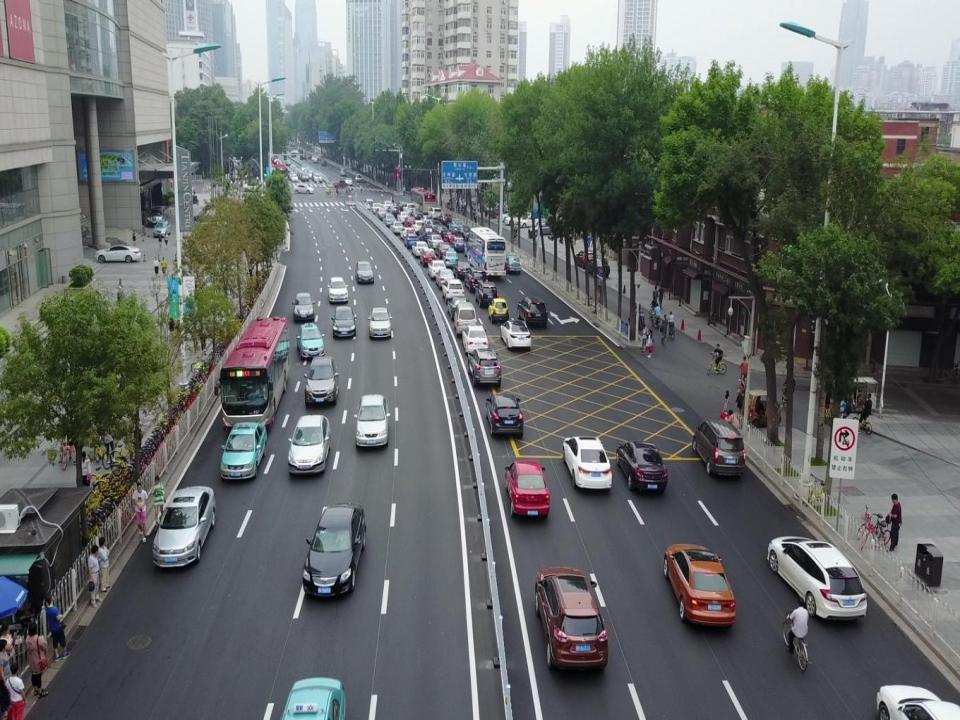bus: (216, 317, 288, 433), (470, 226, 506, 278), (408, 187, 436, 214)
car: (766, 536, 866, 620), (535, 568, 608, 670), (664, 543, 736, 628), (302, 503, 366, 594), (152, 486, 216, 566), (875, 685, 960, 720), (692, 420, 745, 475), (219, 420, 267, 479), (280, 676, 344, 720), (616, 441, 668, 492), (563, 437, 612, 489), (288, 414, 330, 474), (505, 461, 550, 517), (303, 354, 339, 406), (354, 393, 390, 444), (485, 393, 523, 437), (467, 348, 501, 387), (296, 322, 324, 359), (517, 296, 547, 330), (500, 320, 531, 349), (331, 305, 357, 339), (95, 243, 141, 262), (462, 326, 488, 354), (368, 307, 392, 337), (292, 293, 316, 321), (464, 267, 486, 293), (475, 281, 498, 305), (447, 297, 471, 319), (442, 279, 464, 303), (487, 298, 508, 323), (586, 257, 610, 278), (328, 277, 348, 302), (436, 267, 456, 289), (355, 261, 374, 283), (527, 222, 558, 235), (502, 252, 521, 273), (148, 205, 166, 227), (574, 250, 596, 268), (428, 260, 446, 278), (59, 438, 69, 470), (420, 248, 436, 268), (154, 218, 171, 236), (453, 260, 470, 278), (517, 215, 541, 227), (411, 241, 428, 257), (435, 241, 451, 258), (443, 248, 458, 266), (403, 232, 419, 248), (428, 233, 443, 250), (292, 183, 315, 194), (419, 225, 434, 241), (449, 218, 464, 234), (491, 207, 510, 219), (458, 226, 473, 241), (400, 227, 416, 241), (498, 210, 518, 221), (443, 230, 458, 244), (412, 219, 425, 234), (427, 219, 442, 232), (420, 214, 435, 227), (428, 207, 444, 219), (390, 221, 404, 234), (383, 212, 396, 226), (369, 202, 383, 215), (434, 225, 448, 238), (403, 202, 416, 216), (453, 237, 465, 252), (437, 213, 452, 225), (404, 216, 417, 229), (374, 207, 387, 219), (363, 198, 375, 210), (398, 211, 410, 223), (388, 206, 400, 217), (382, 200, 394, 211), (413, 210, 423, 221), (397, 200, 408, 210)
van: (452, 301, 476, 337), (505, 212, 530, 225)
